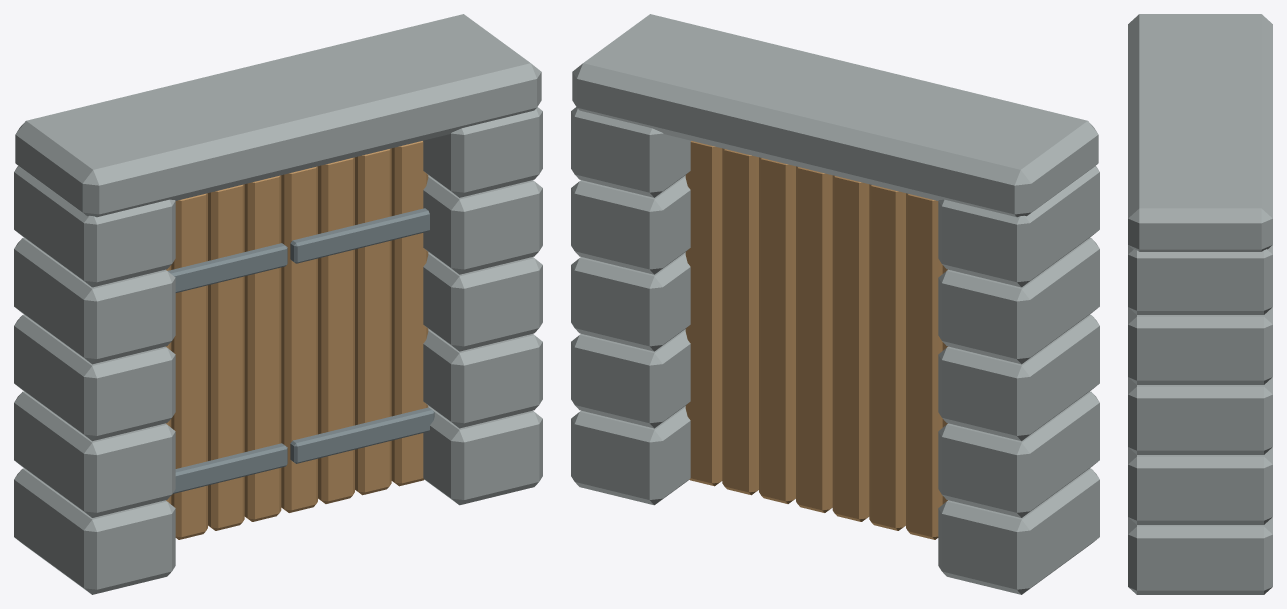
Rendered from CC_CastleGate.fbx.
3 renders of one model, left to right at view 1: azimuth 30°, elevation 25°; view 2: azimuth 150°, elevation 25°; view 3: azimuth 270°, elevation 25°, orthographic. The views are drawn at different scales.
Parts seen in each view (by area): view 1: Lintel.003, Pier.001, Pier.002, Pier, Pier.003, Pier.004, Gate plank, Gate plank.004, Gate plank.001, Gate plank.006, Gate plank.005, Gate plank.002 (+10 smaller); view 2: Lintel.003, Gate plank, Gate plank.001, Gate plank.006, Gate plank.004, Gate plank.005, Pier.001, Pier.002, Pier, Pier.003, Gate plank.002, Gate plank.007 (+6 smaller); view 3: Lintel.003, Pier.006, Pier.005, Pier.007, Pier.008, Pier.009.
Boxes of the visible parts, x1,y1,x2,y2 form: Lintel.003: (15, 14, 541, 217); Pier.001: (14, 391, 175, 517); Pier.002: (14, 314, 175, 441); Pier: (14, 468, 175, 594); Pier.003: (14, 237, 175, 364); Pier.004: (14, 166, 175, 287); Gate plank: (244, 175, 281, 521); Gate plank.004: (281, 166, 317, 512); Gate plank.001: (208, 184, 244, 530); Gate plank.006: (355, 148, 391, 495); Gate plank.005: (318, 157, 354, 503); Gate plank.002: (171, 193, 207, 539); Lintel.003: (572, 14, 1098, 217); Gate plank: (832, 175, 869, 521); Gate plank.001: (869, 184, 905, 530); Gate plank.006: (722, 148, 758, 495); Gate plank.004: (796, 166, 832, 512); Gate plank.005: (759, 157, 795, 503); Pier.001: (938, 391, 1099, 517); Pier.002: (938, 314, 1099, 441); Pier: (938, 468, 1099, 594); Pier.003: (938, 237, 1099, 364); Gate plank.002: (906, 193, 942, 539); Gate plank.007: (685, 141, 722, 486); Lintel.003: (1128, 14, 1272, 251); Pier.006: (1128, 447, 1272, 524); Pier.005: (1128, 517, 1272, 594); Pier.007: (1128, 377, 1272, 454); Pier.008: (1128, 307, 1272, 384); Pier.009: (1128, 245, 1272, 314).
Bounding box in the file's own units: 3 × 2.65 × 0.9.
